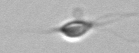plankton: (47, 16, 112, 42)
